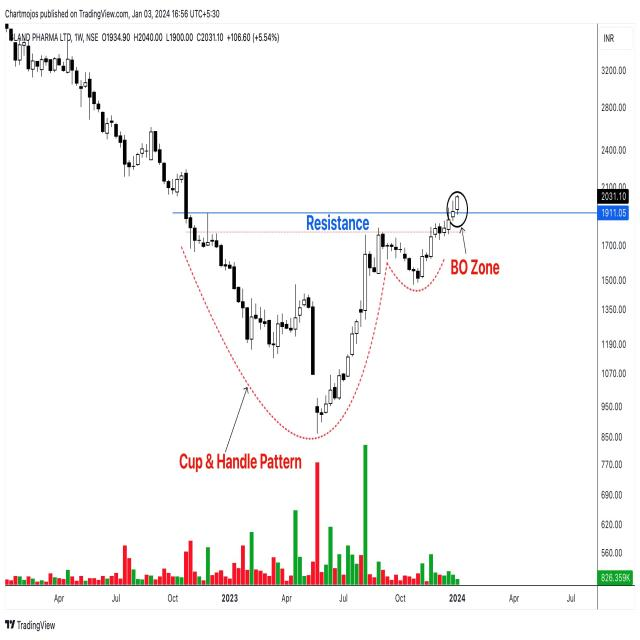Cup-and-handle: (172, 236, 454, 417)
